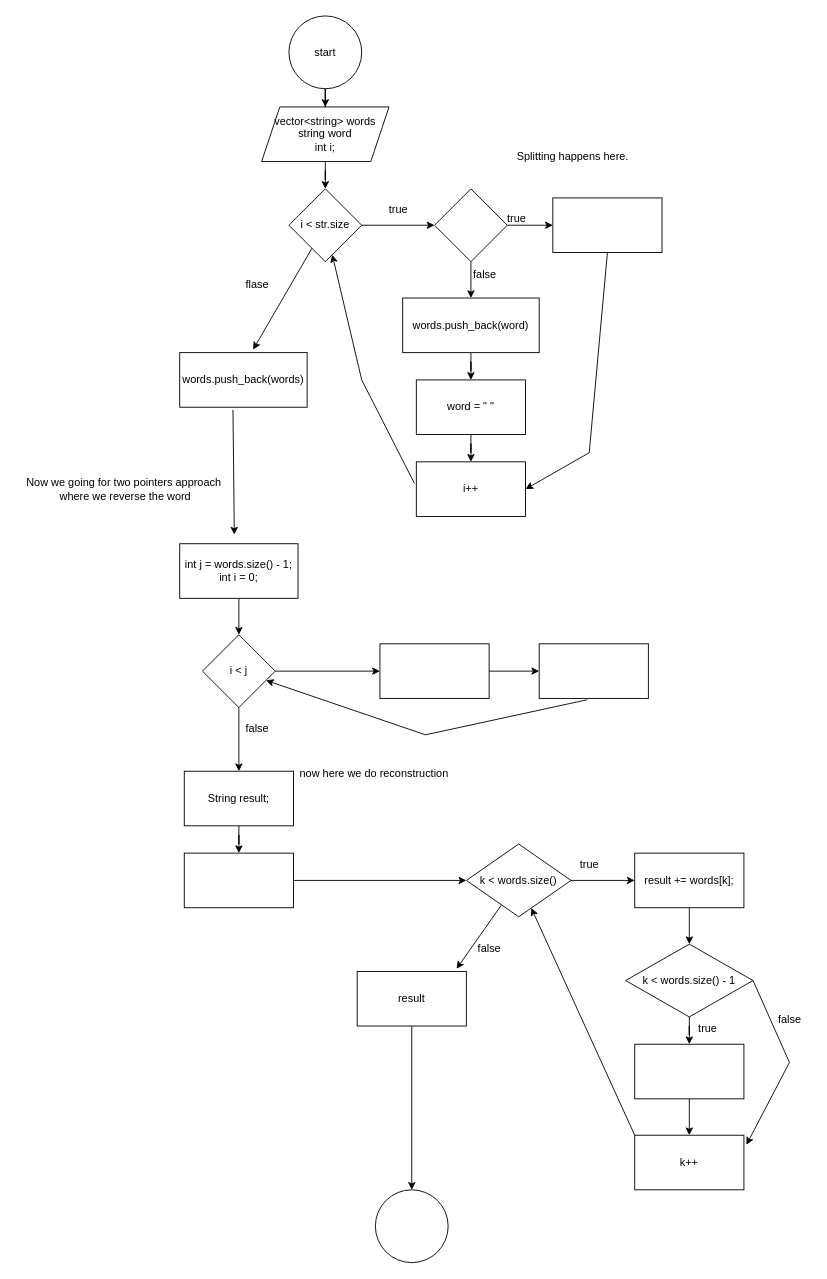
This 827x1279 diagram has some shape labels left out. The centre of each missing label's shape, as x and y in pixels:
i++ j--: the point at 593,670
int k: the point at 238,880
result += ".": the point at 689,1071
STOP: the point at 411,1226
str[i] != '.': the point at 470,225
swap(words[i] , words[j]: the point at 434,670
word += str[i];: the point at 607,225
